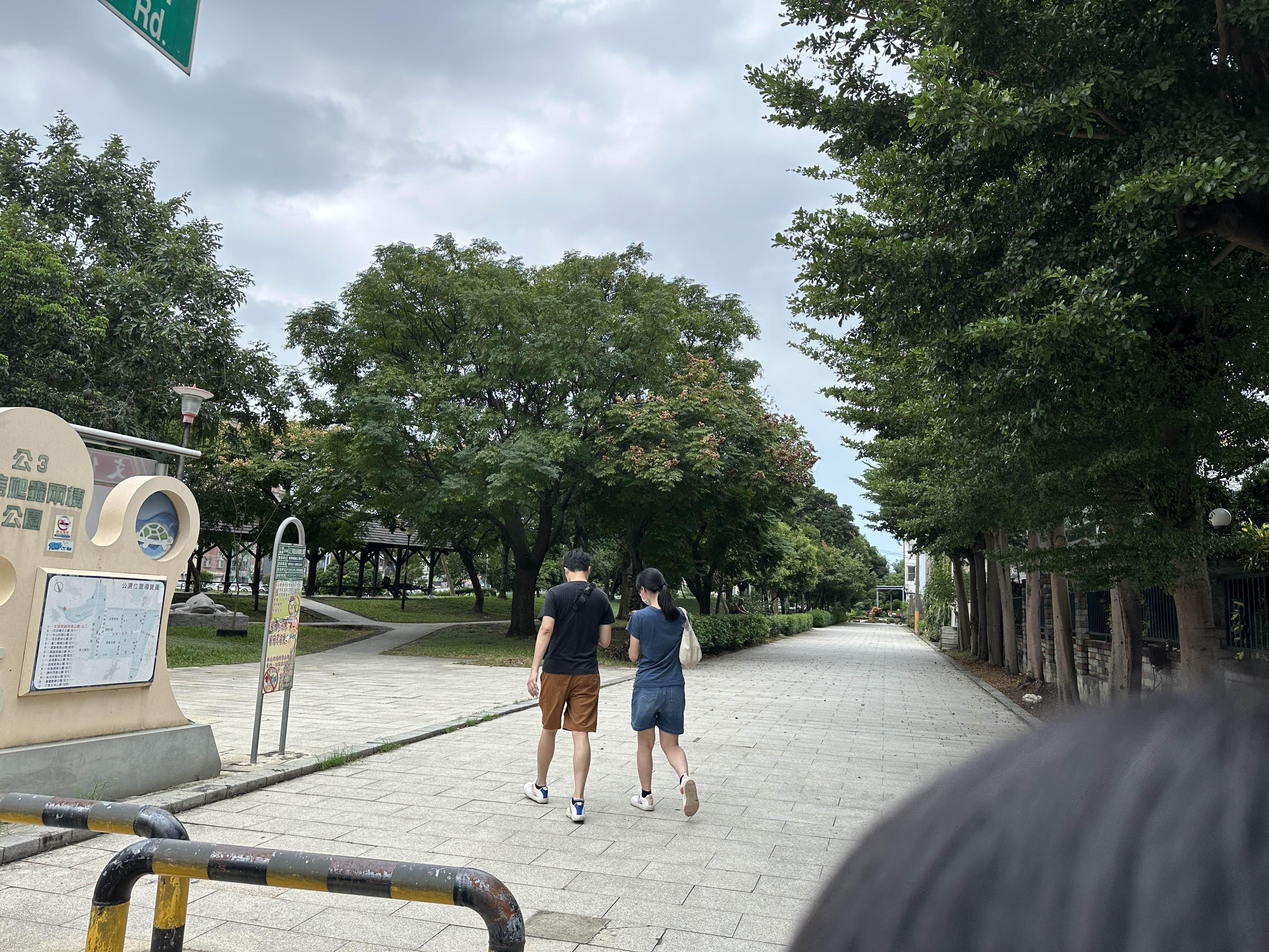NoHelmet: (635, 568, 666, 601), (564, 549, 589, 578)
NoVest: (549, 583, 601, 671), (633, 607, 685, 684)
